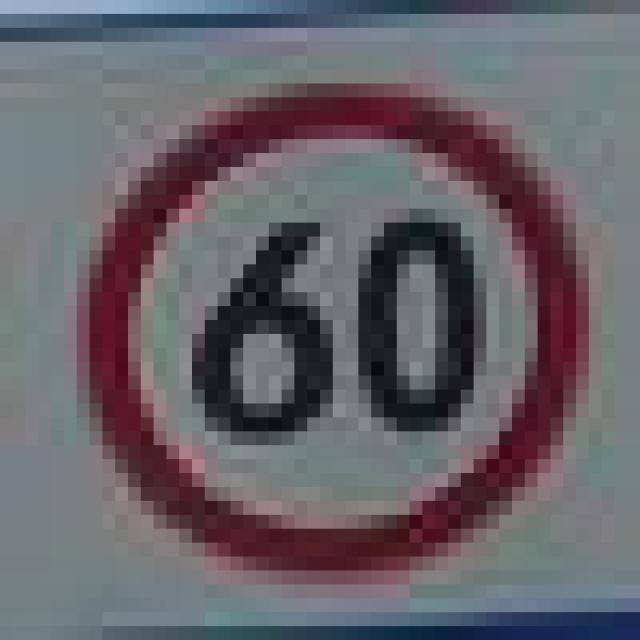SPEED_LIMIT_60: (77, 70, 576, 570)
